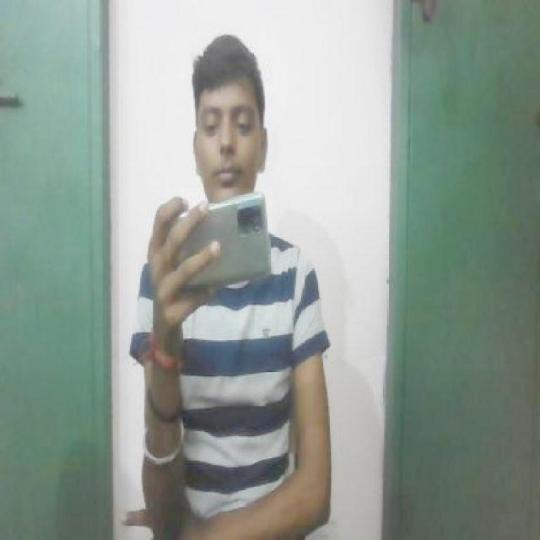phone: (162, 196, 278, 295)
